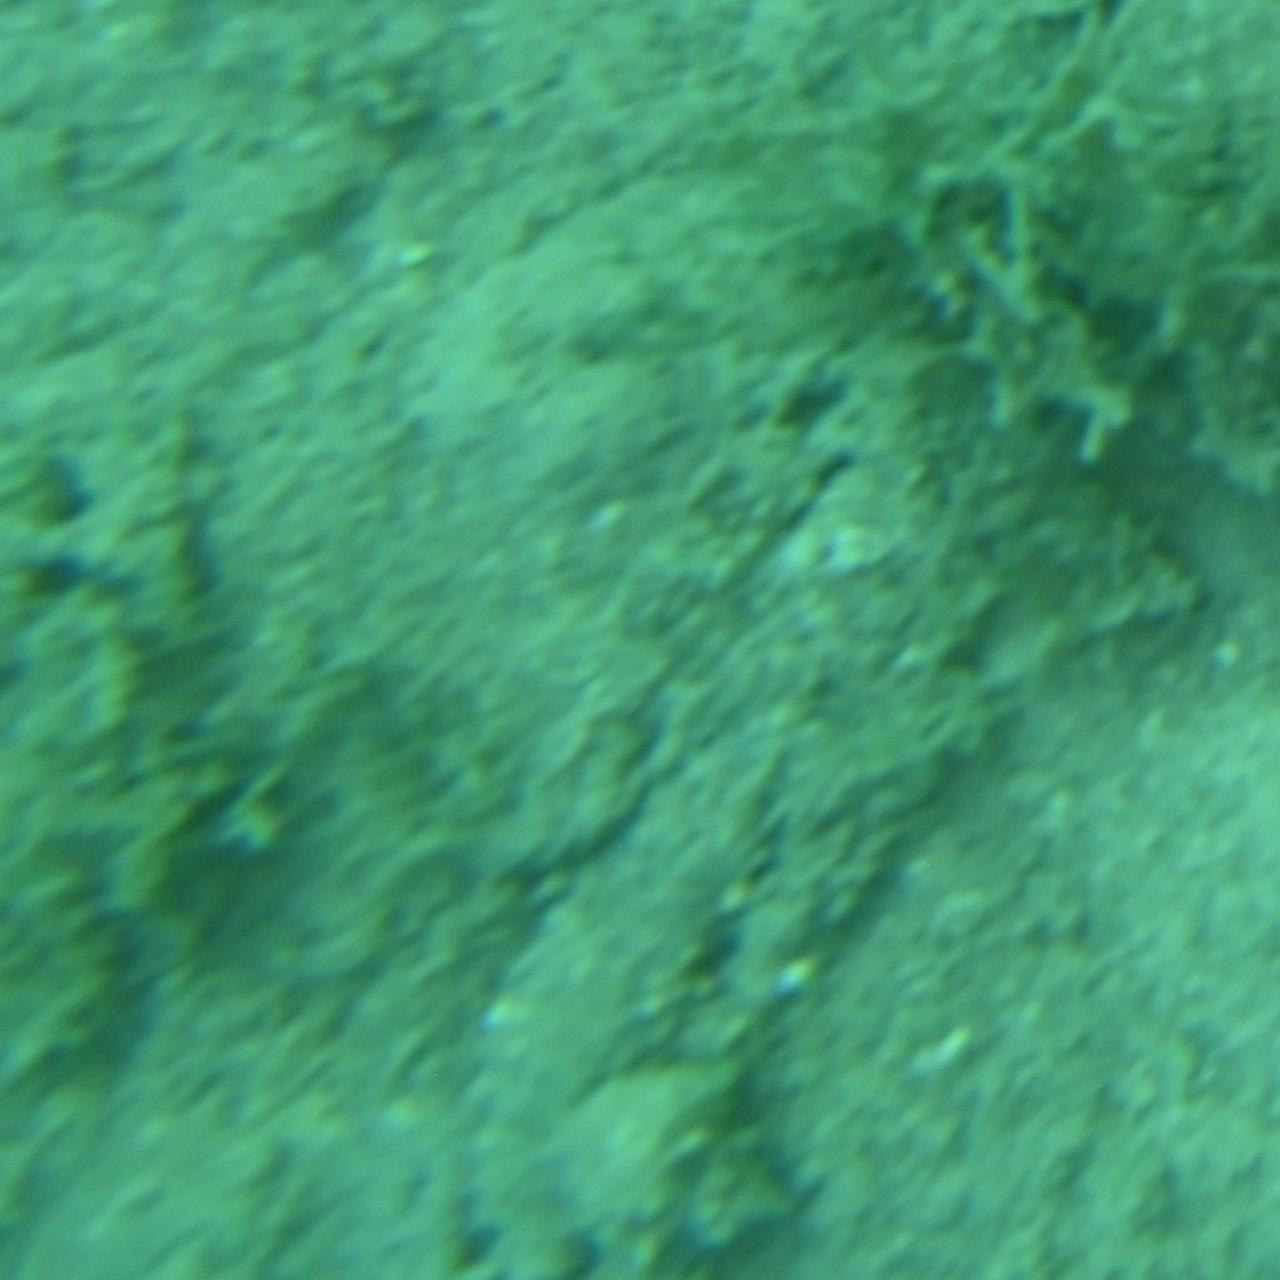Holothuria tubulosa: (456, 676, 824, 1280)
